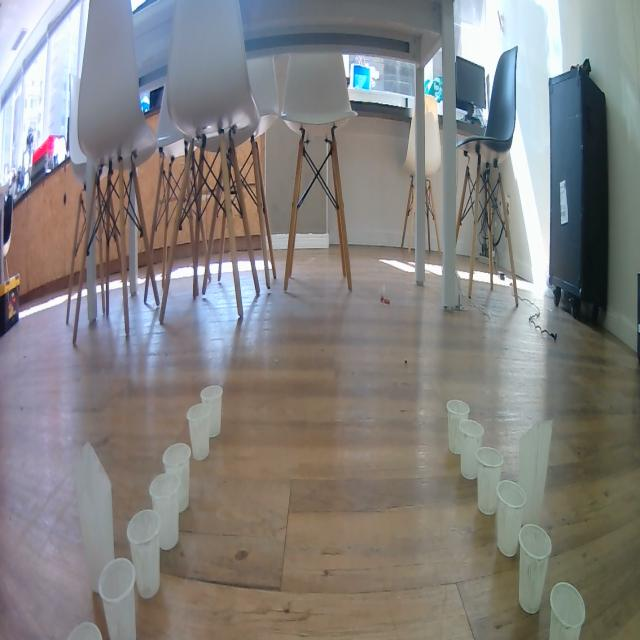planta: (126, 509, 162, 600), (98, 557, 137, 640), (518, 523, 552, 615), (149, 472, 181, 552), (496, 480, 526, 558), (548, 581, 586, 640), (162, 442, 192, 512), (476, 446, 504, 516), (458, 419, 484, 480), (186, 403, 211, 461), (446, 399, 470, 456), (200, 384, 223, 438), (67, 621, 103, 640)
